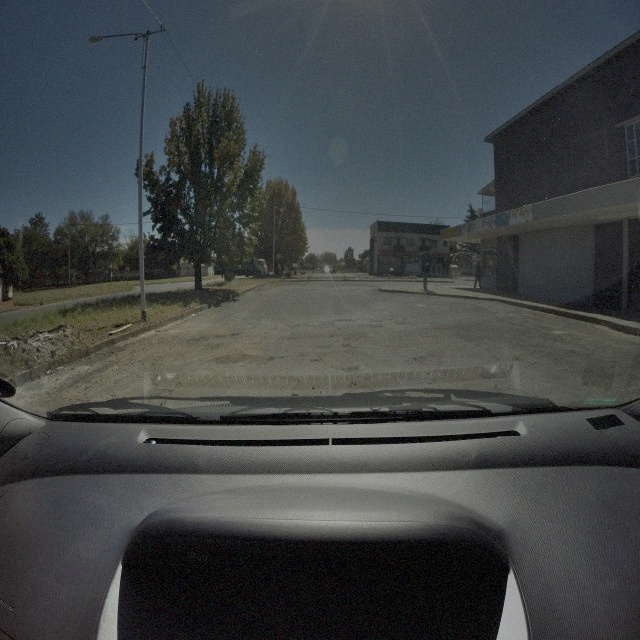pothole: (212, 345, 257, 367), (361, 322, 383, 329), (413, 353, 426, 363), (335, 317, 353, 324), (346, 364, 358, 374), (310, 356, 324, 364)
